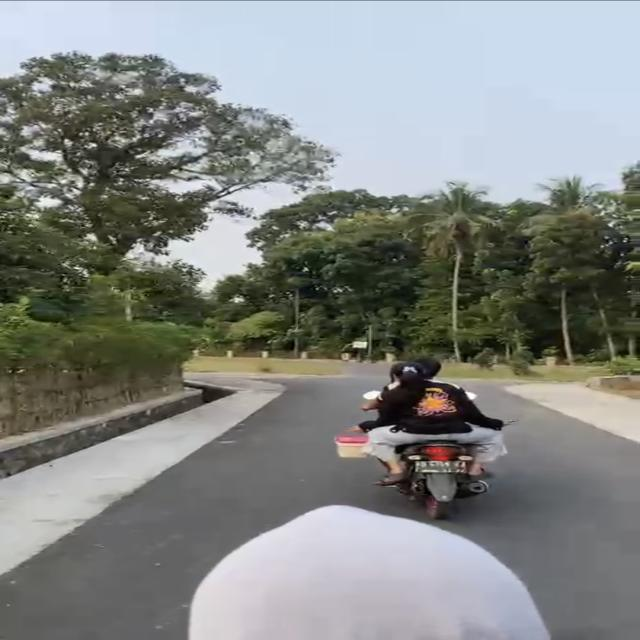WithoutHelmet: (186, 503, 551, 640), (344, 362, 510, 488), (361, 357, 466, 412)
